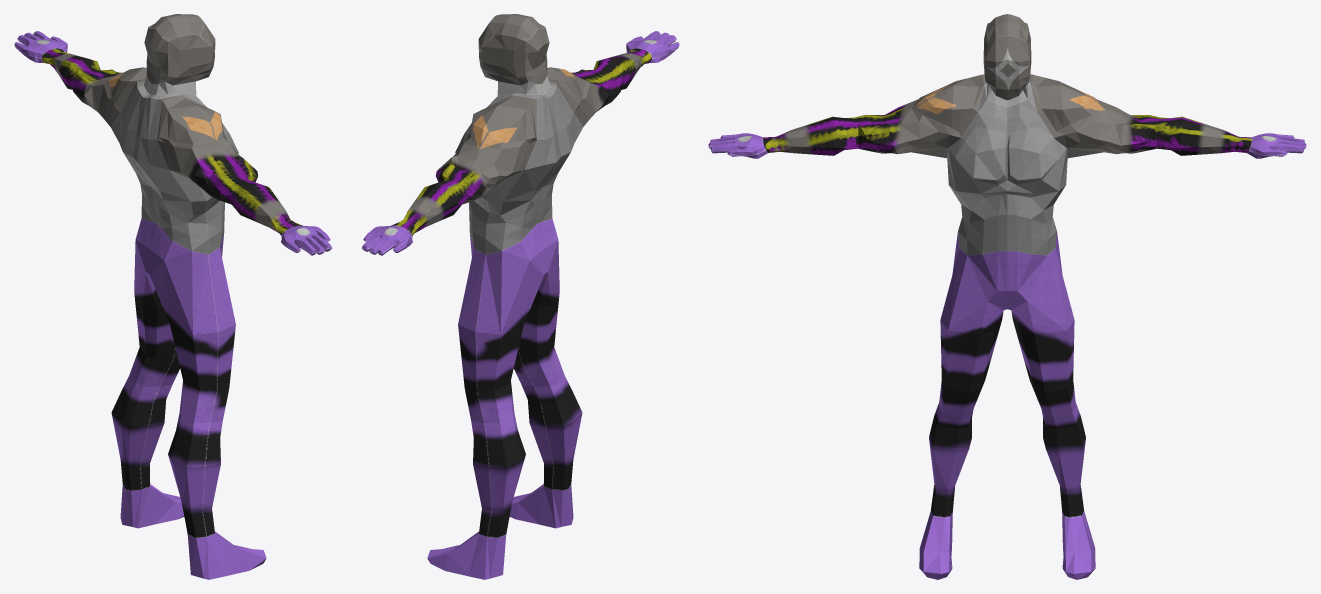
File: main_chracter_seamed (1).fbx
3 views of the same model, side by side, from view 1: azimuth 30°, elevation 25°; view 2: azimuth 150°, elevation 25°; view 3: azimuth 270°, elevation 25° (orthographic).
Visible parts, largest first — view 1: Cube; view 2: Cube; view 3: Cube.
Part boxes in pixels (x1,y1,x2,y2): Cube: (14, 14, 332, 579); Cube: (361, 14, 679, 579); Cube: (708, 14, 1306, 579).
Bounding box in the file's own units: 123 × 619 × 626.
